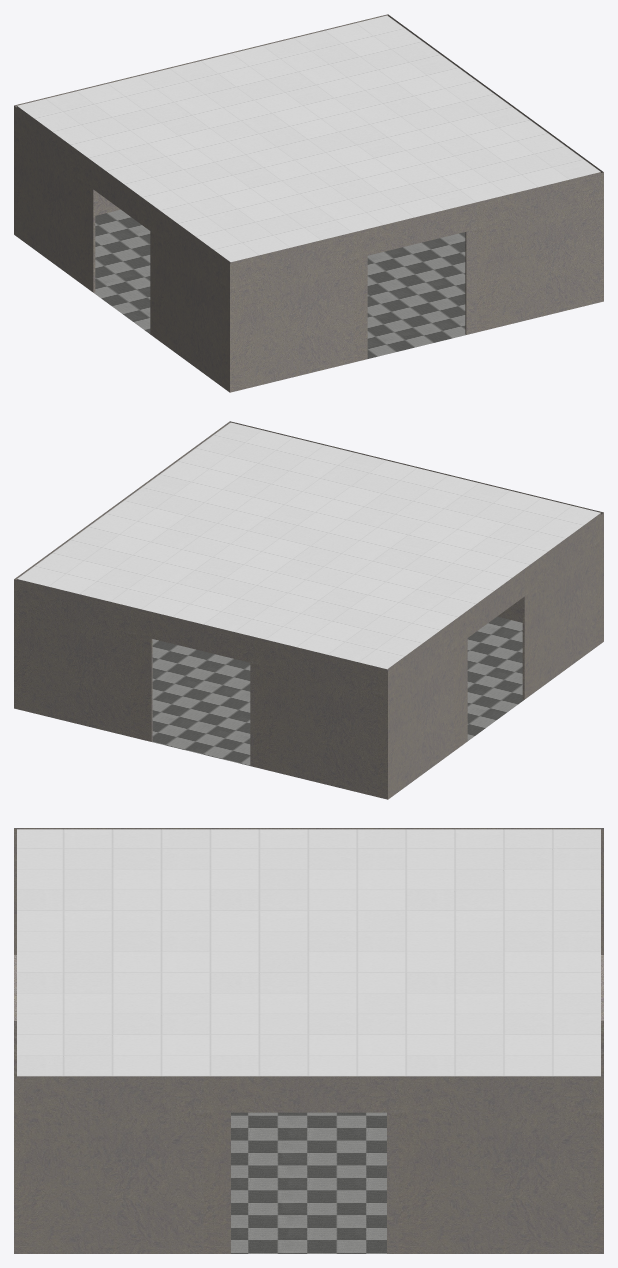
File: baseRoom.glb
3 views of the same model, one above another, from view 1: azimuth 30°, elevation 25°; view 2: azimuth 150°, elevation 25°; view 3: azimuth 270°, elevation 25° (orthographic). The views are drawn at different scales.
Parts seen in each view (by area): view 1: baseRoom; view 2: baseRoom; view 3: baseRoom.
Boxes of the visible parts, <box> form: baseRoom: <box>14,14,603,392</box>; baseRoom: <box>14,421,603,799</box>; baseRoom: <box>14,828,603,1253</box>.
Size of what is drawn, in the model's own units: 15.15 by 5 by 15.15.
3 materials, 3 textured.
